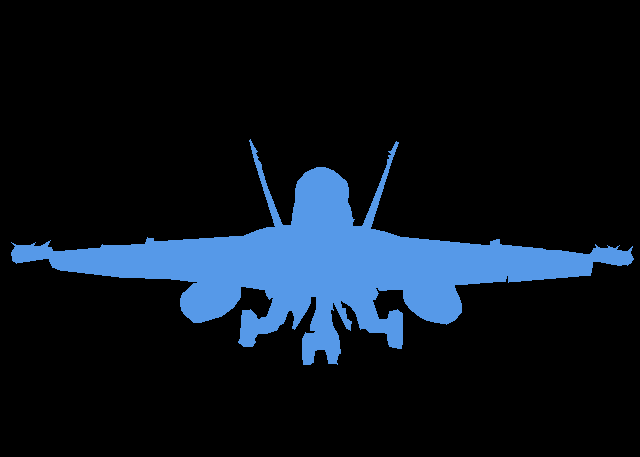Airplane: (11, 139, 634, 364)
